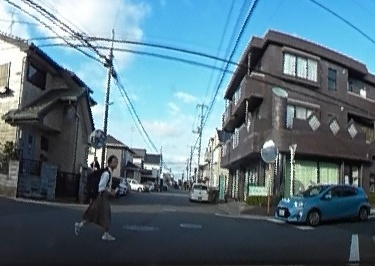person: (73, 152, 121, 240)
